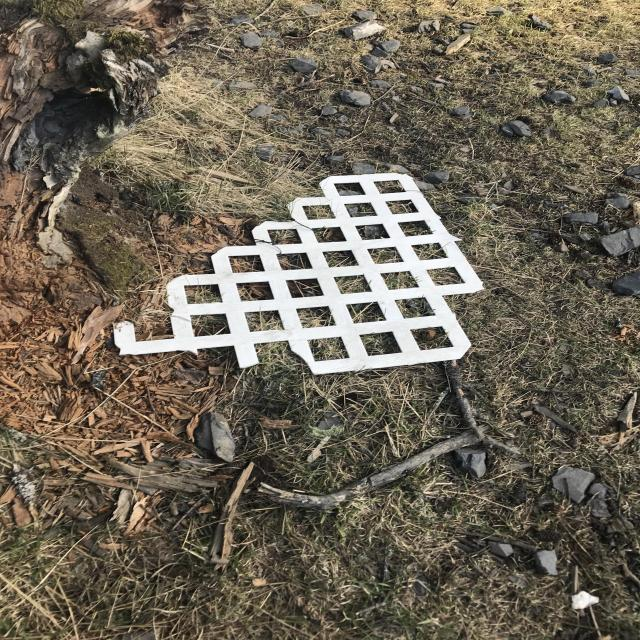litter: (233, 117, 503, 396)
